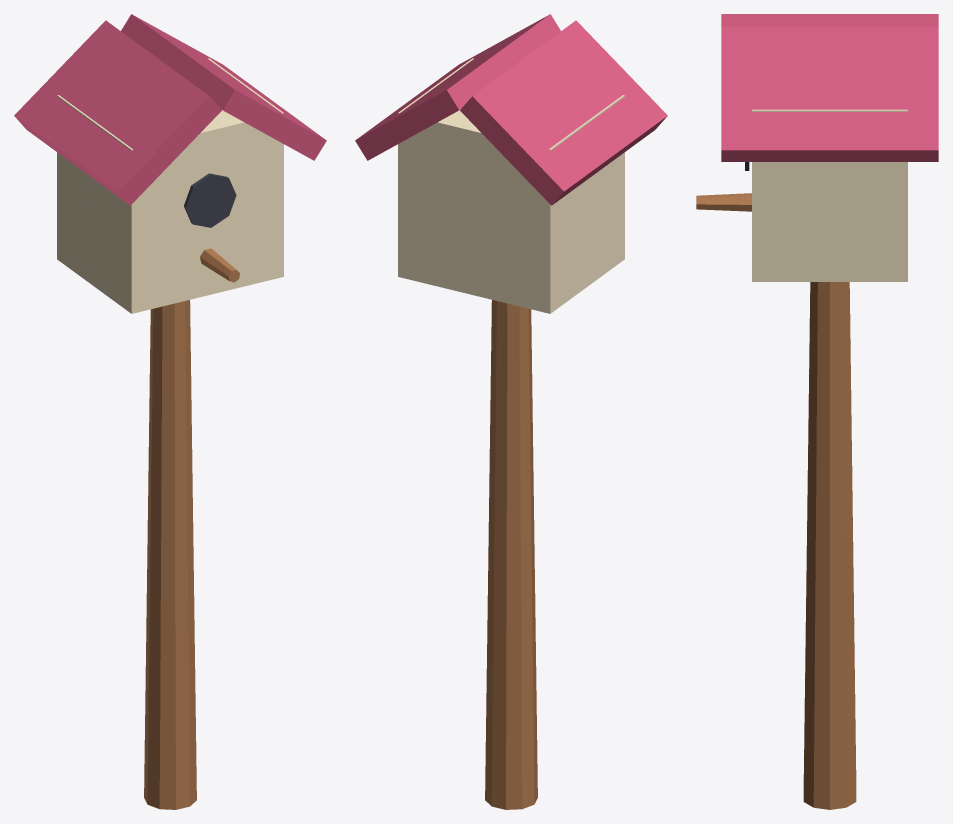
The model's file is turning-seasons-birdhouse-b027be2e__2117.glb.
3 views of the same model, side by side, from view 1: azimuth 30°, elevation 25°; view 2: azimuth 150°, elevation 25°; view 3: azimuth 270°, elevation 25° (orthographic). The views are drawn at different scales.
Parts seen in each view (by area): view 1: birdhouse; view 2: birdhouse; view 3: birdhouse.
Boxes of the visible parts, x1,y1,x2,y2 form: birdhouse: [14, 14, 326, 809]; birdhouse: [355, 14, 667, 809]; birdhouse: [696, 14, 938, 809].
Bounding box in the file's own units: 0.4535 × 1.54 × 0.435.
